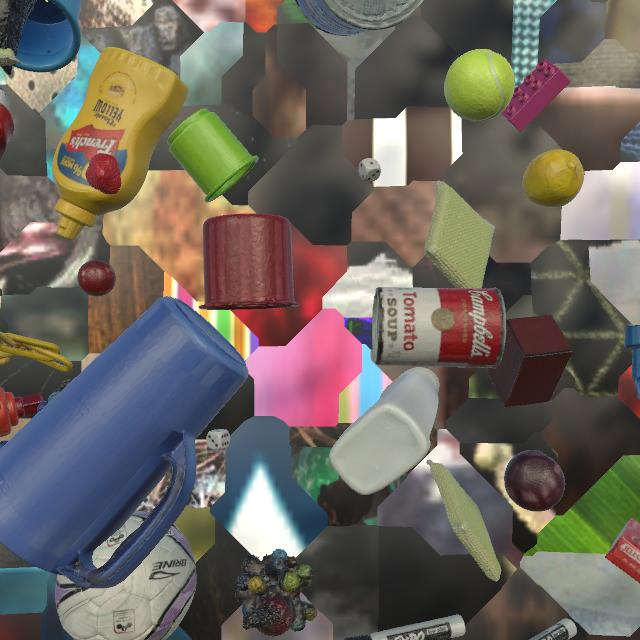ycb_002_master_chef_can: (295, 0, 425, 36)
ycb_005_tomato_soup_can: (372, 287, 506, 368)
ycb_006_mustard_bottle: (52, 47, 189, 241)
ycb_009_gelatin_box: (605, 518, 640, 583)
ycb_012_strawberry: (86, 153, 122, 194)
ycb_014_lemon: (522, 149, 584, 208)
ycb_018_plum: (504, 450, 565, 512)
